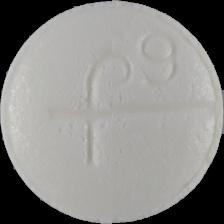0615-7752: (0, 0, 224, 224)
